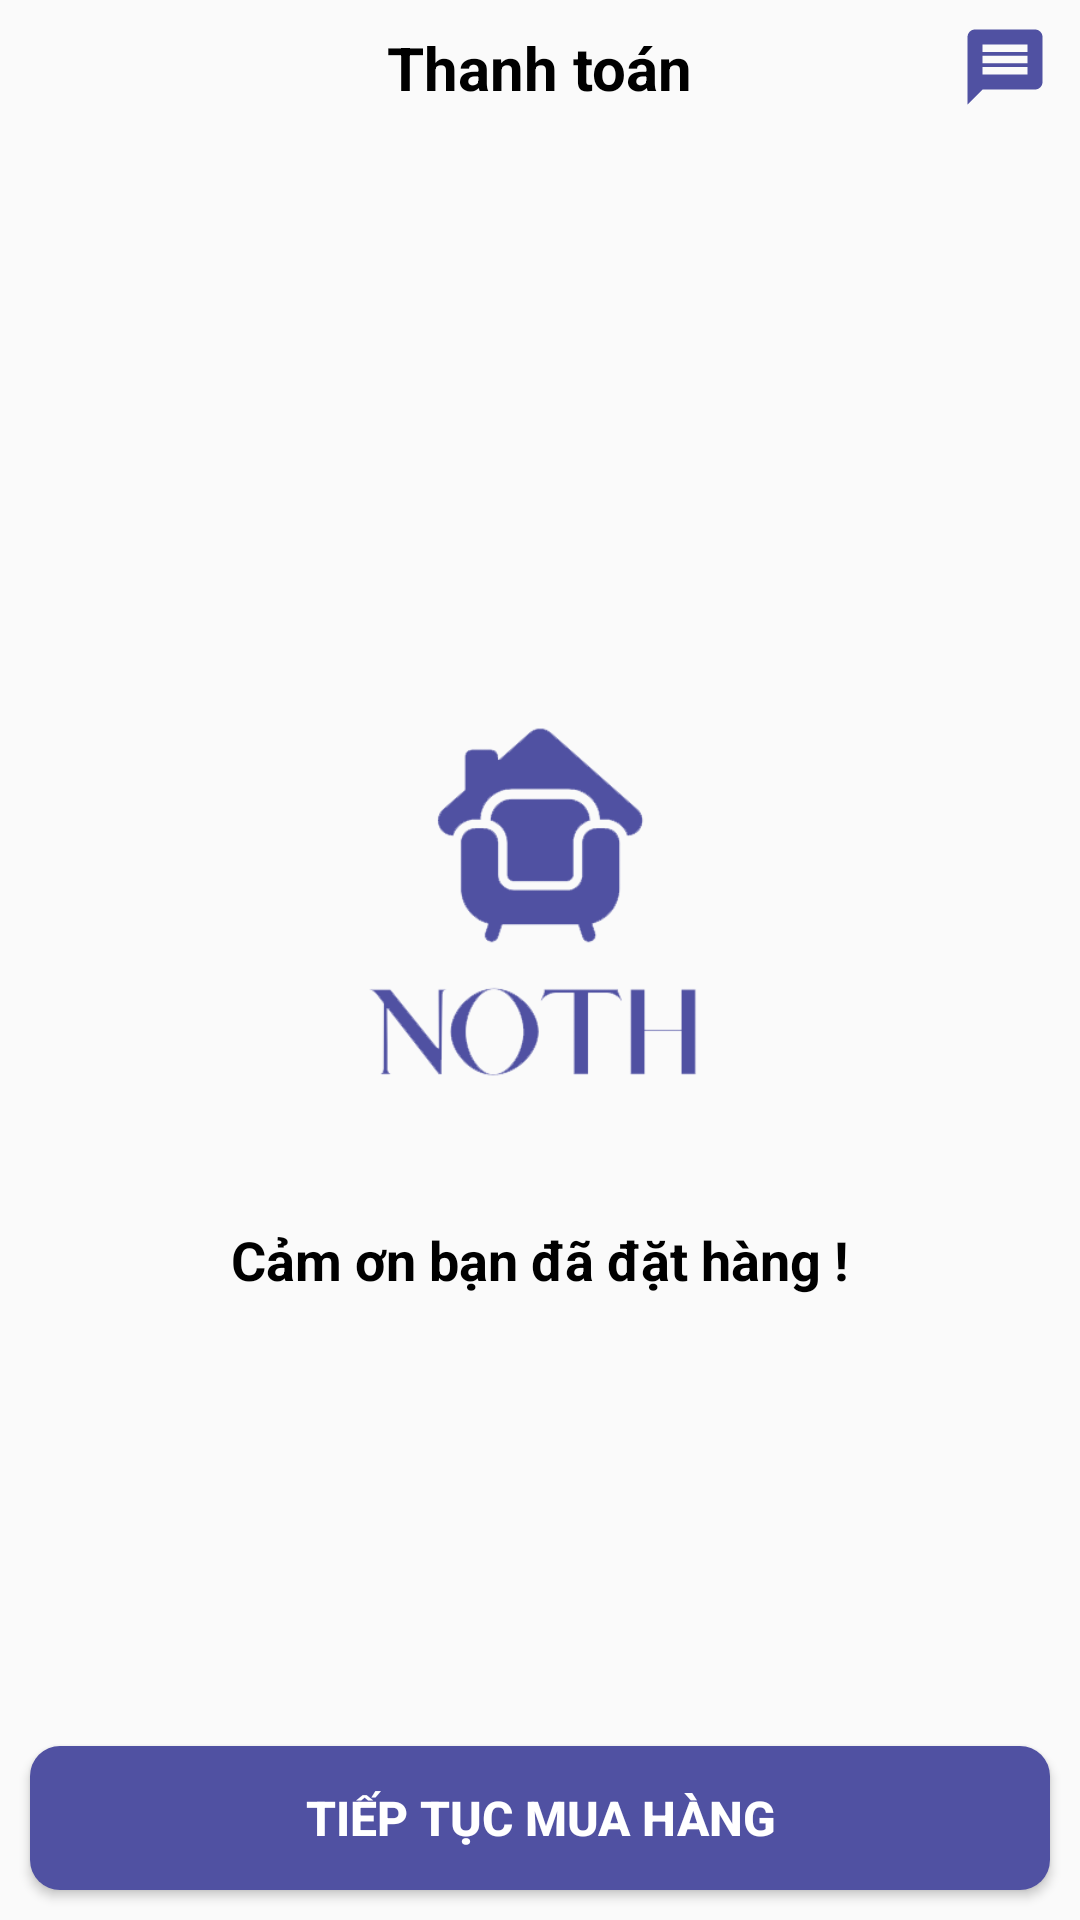

Point at icon controls on the screen. Image size 1080px×1920px, points as (x,y).
chat: (1005,67)
